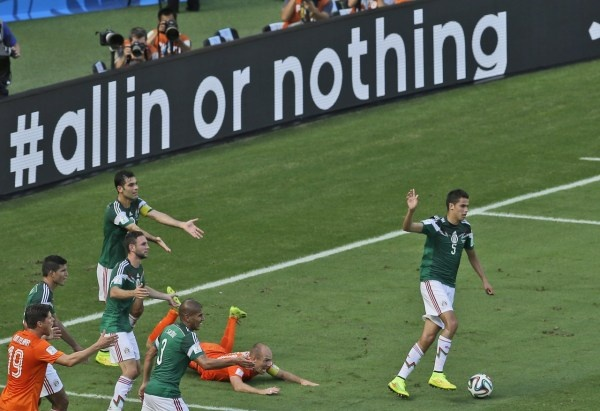falling: (164, 296, 322, 404)
